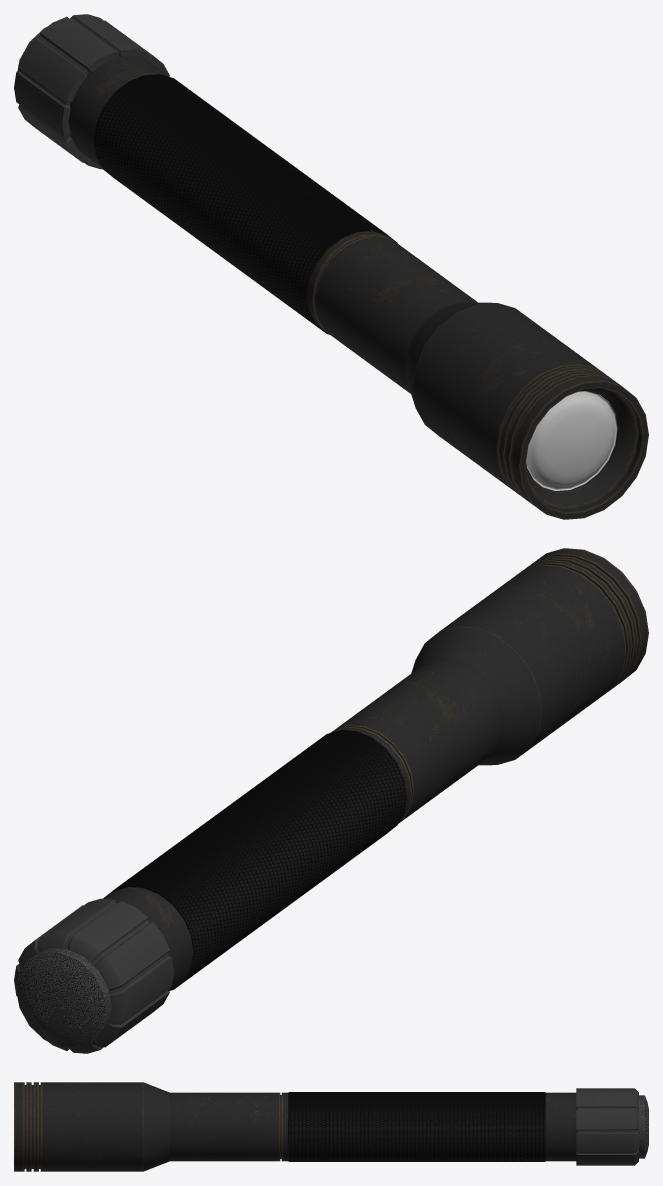
The model's file is torch.fbx.
3 views of the same model, one above another, from view 1: azimuth 30°, elevation 25°; view 2: azimuth 150°, elevation 25°; view 3: azimuth 270°, elevation 25° (orthographic). The views are drawn at different scales.
Visible parts, largest first — view 1: Cylinder.002; view 2: Cylinder.002; view 3: Cylinder.002.
Part boxes in pixels (left/top/right/bottom): Cylinder.002: left=14, top=14, right=648, bottom=519; Cylinder.002: left=14, top=548, right=648, bottom=1053; Cylinder.002: left=14, top=1082, right=648, bottom=1171.
Bounding box in the file's own units: 4.89 × 4.89 × 34.43.
